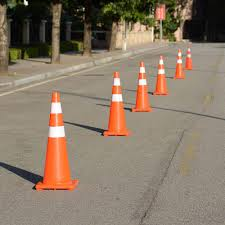cones: (32, 91, 77, 192), (99, 71, 134, 137), (129, 60, 155, 113), (153, 57, 171, 97), (173, 47, 188, 82), (183, 44, 195, 71)
